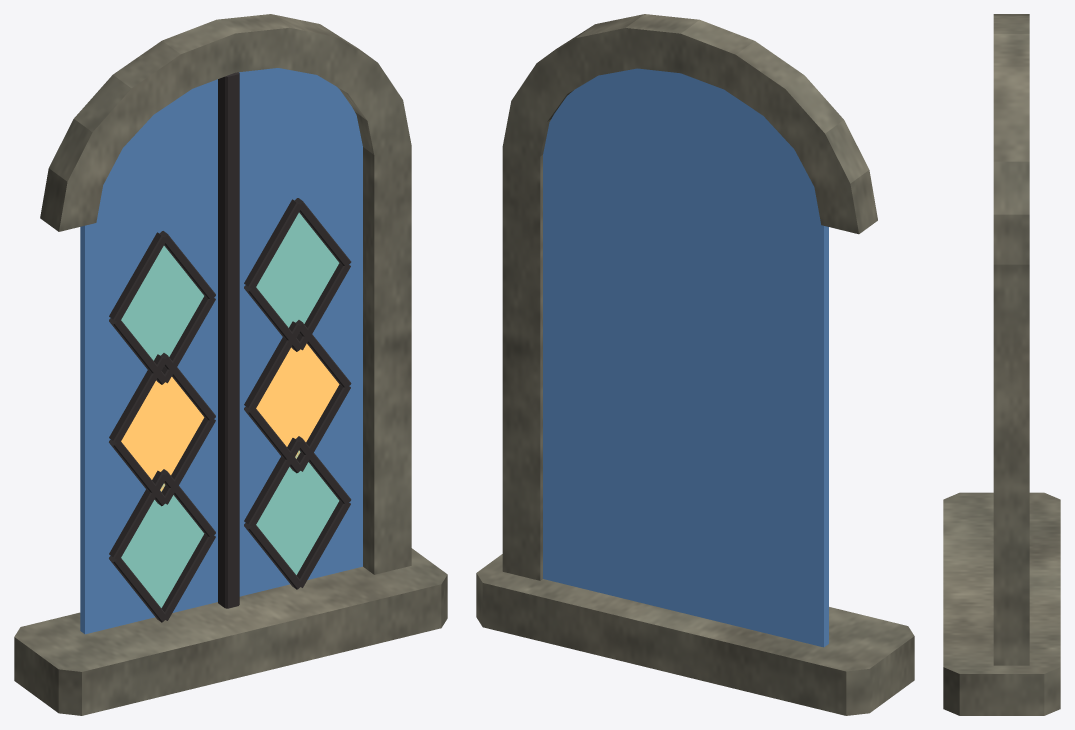
File: chapel_window.glb
The picture shows the model from 3 angles, left to right: view 1: azimuth 30°, elevation 25°; view 2: azimuth 150°, elevation 25°; view 3: azimuth 270°, elevation 25°; orthographic projection. The views are drawn at different scales.
Parts seen in each view (by area): view 1: Chapel Window; view 2: Chapel Window; view 3: Chapel Window.
Boxes of the visible parts, x1,y1,x2,y2 form: Chapel Window: [14, 14, 447, 715]; Chapel Window: [476, 14, 914, 715]; Chapel Window: [943, 14, 1060, 715].
Size of the model in its own units: 1.61 by 2.45 by 0.44.
Materials: 5 (1 with a texture image).
